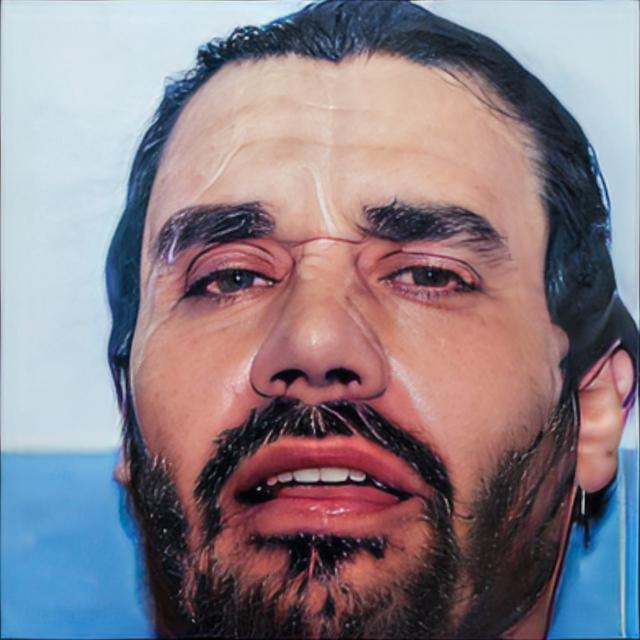sad: (128, 56, 557, 640)
